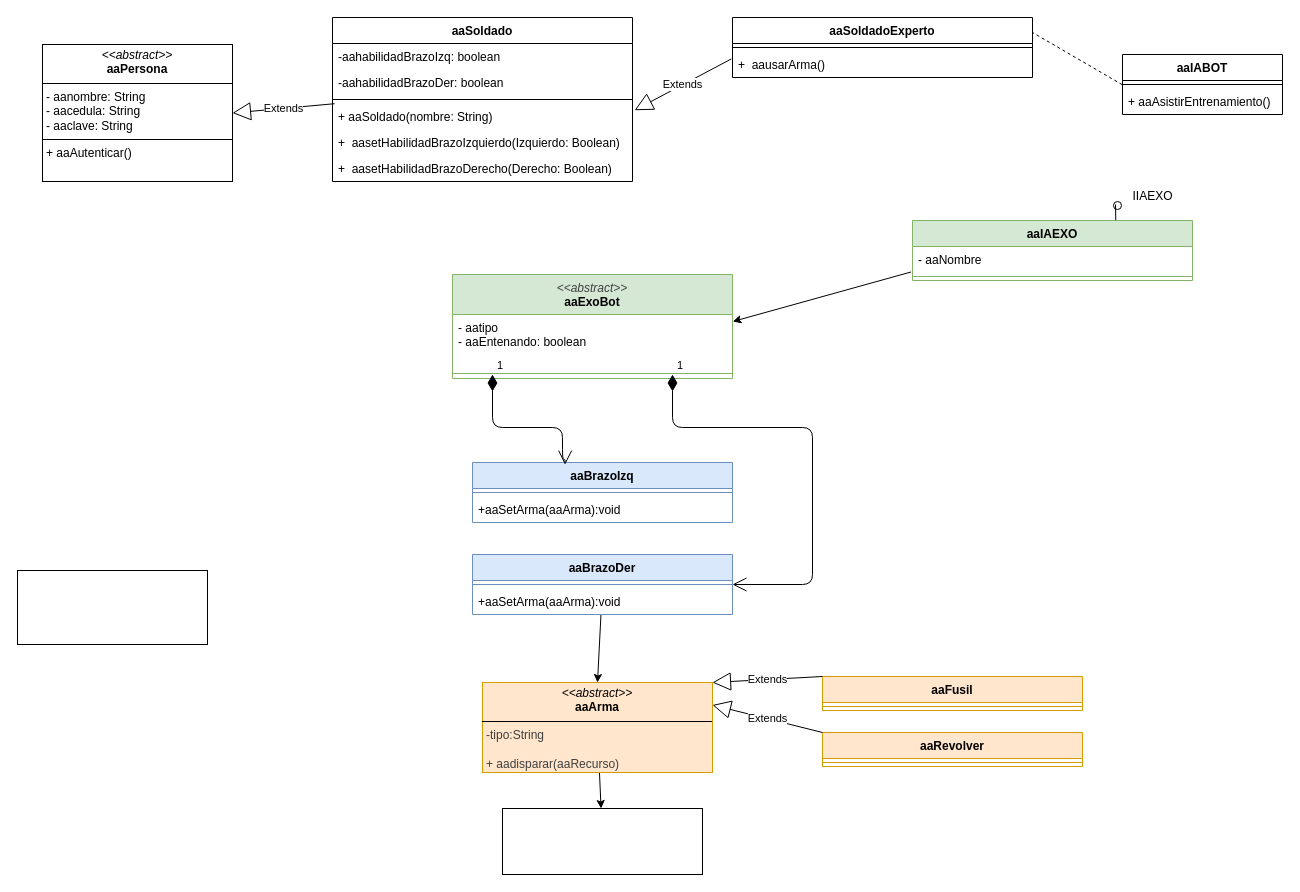
This 1300x892 diagram has some shape labels left out. The centre of each missing label's shape, as x and y in pixels:
<<Interface>> IIAEXO + aaEjecutarAccion(): (x=112, y=607)
aaRecurso: (x=602, y=841)
